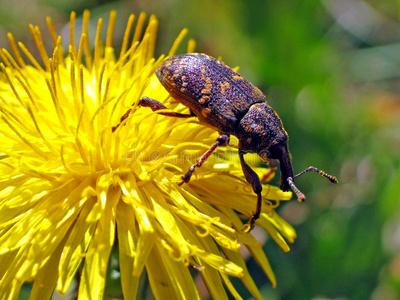Curculionidae: (111, 51, 339, 234)
